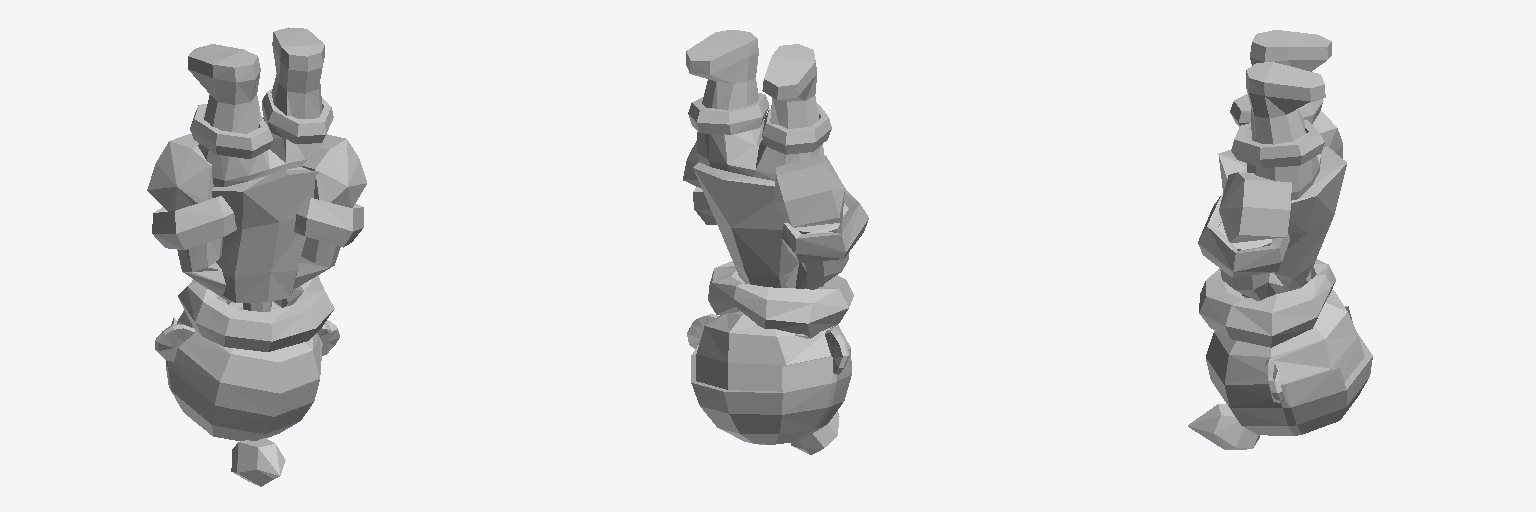
Rendered from eikastanding_000320.obj.
The picture shows the model from 3 angles: view 1: azimuth 30°, elevation 25°; view 2: azimuth 150°, elevation 25°; view 3: azimuth 270°, elevation 25°; orthographic projection.
Parts seen in each view (by area): view 1: Cylinder; view 2: Cylinder; view 3: Cylinder.
Boxes of the visible parts, x1=… form: Cylinder: x1=147, y1=27, x2=366, y2=486; Cylinder: x1=683, y1=30, x2=868, y2=454; Cylinder: x1=1188, y1=30, x2=1372, y2=449.
Bounding box in the file's own units: 25.96 × 56.18 × 22.99.